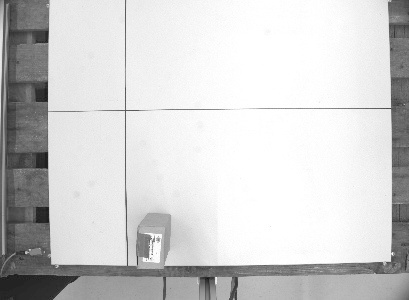b6: (133, 209, 173, 272)
